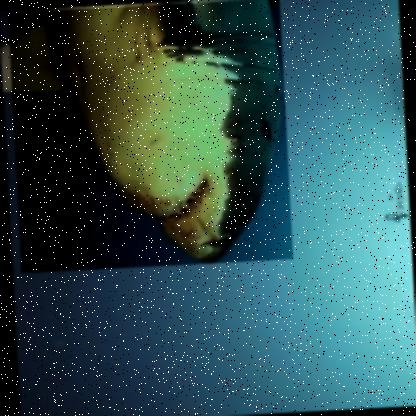white-shark: (5, 0, 292, 274)
